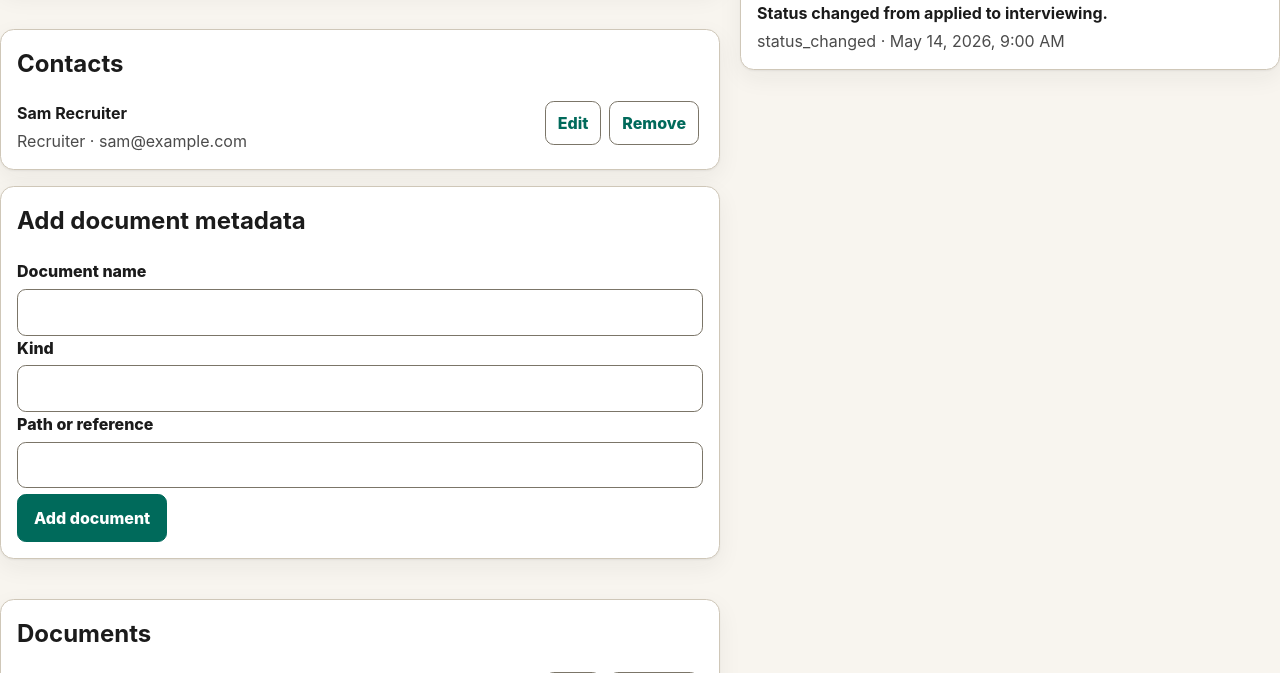
Test case: ApplicationDetailPage › adds document metadata
The image size is (1280, 673).
(page scrolled)
Type "Backend Resume" into the field labelled "Document name" at (360, 312), box left=17, top=289, right=703, bottom=336
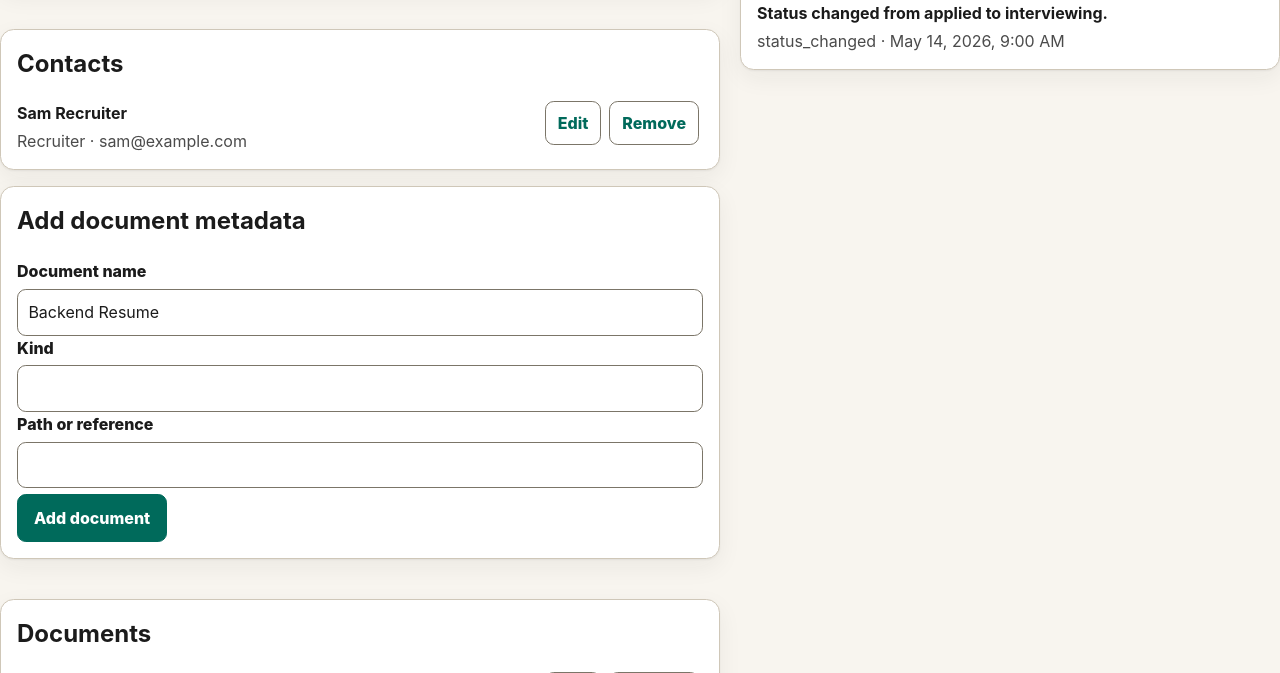
Type "resume" into the field labelled "Kind" at (360, 389), box left=17, top=365, right=703, bottom=412
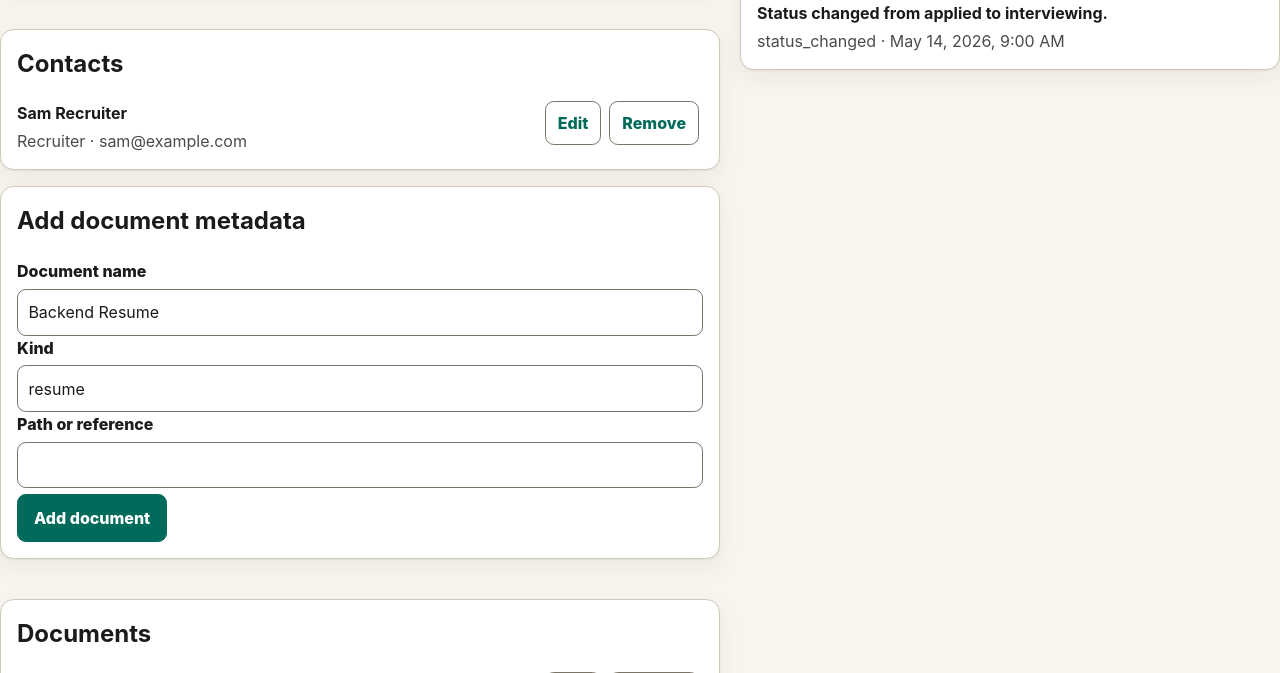
Type "documents/backend-resume.pdf" into the field labelled "Path or reference" at (360, 465), box left=17, top=442, right=703, bottom=488
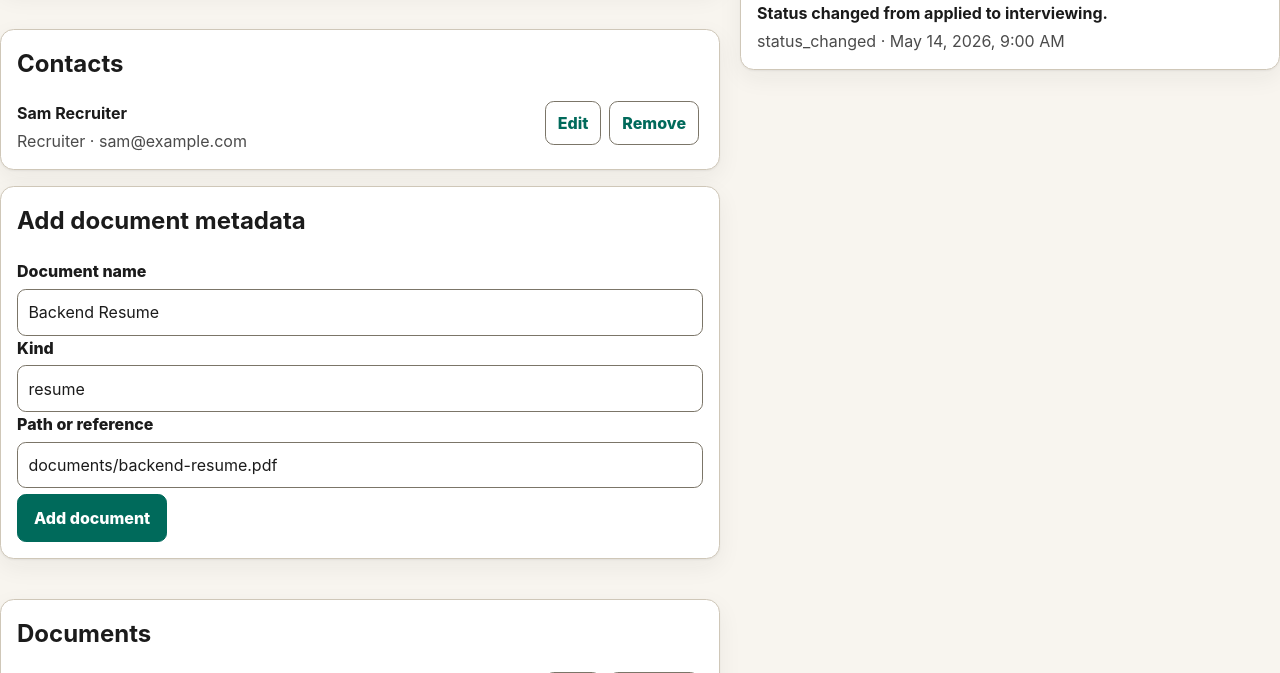
Click the button "Add document" at (92, 518), box left=17, top=494, right=167, bottom=542
(page scrolled)
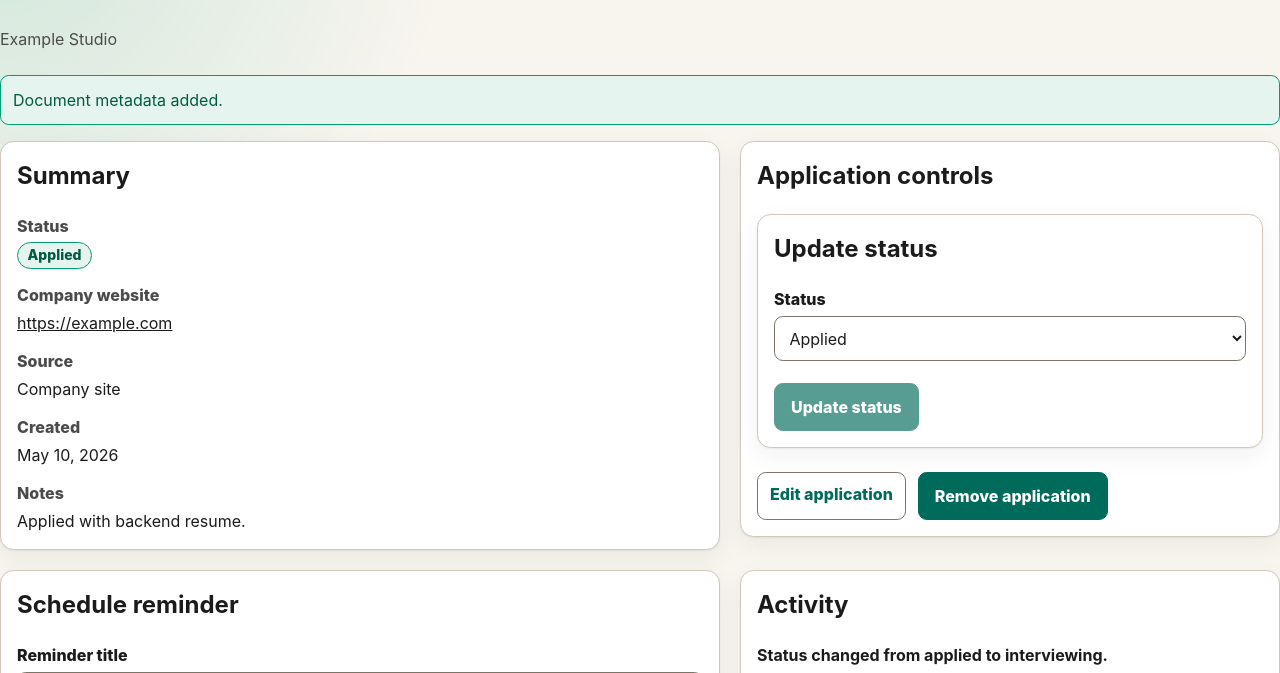
Check: the message reads "Document metadata added.", box left=13, top=90, right=223, bottom=110
